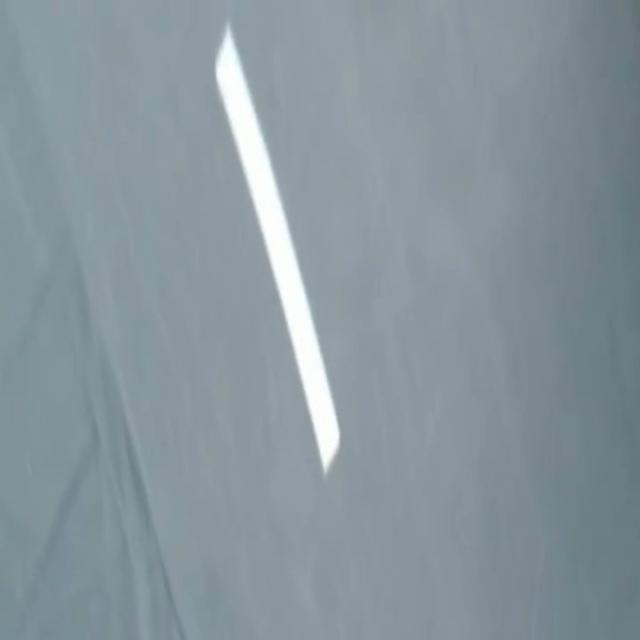center: (216, 23, 339, 474)
